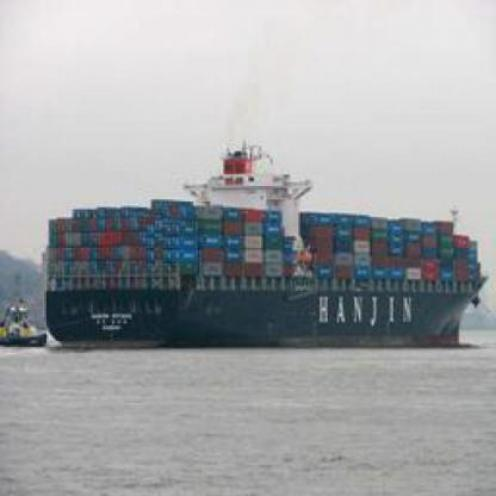Ship: (29, 182, 490, 347)
